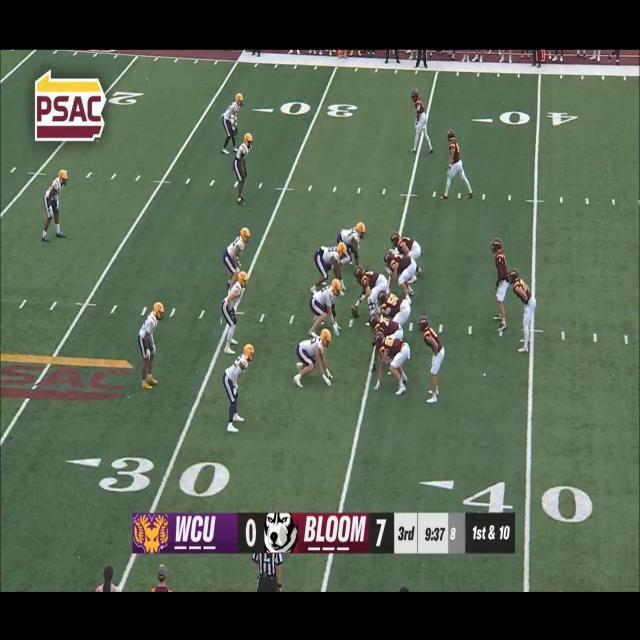football: (350, 305, 362, 318)
